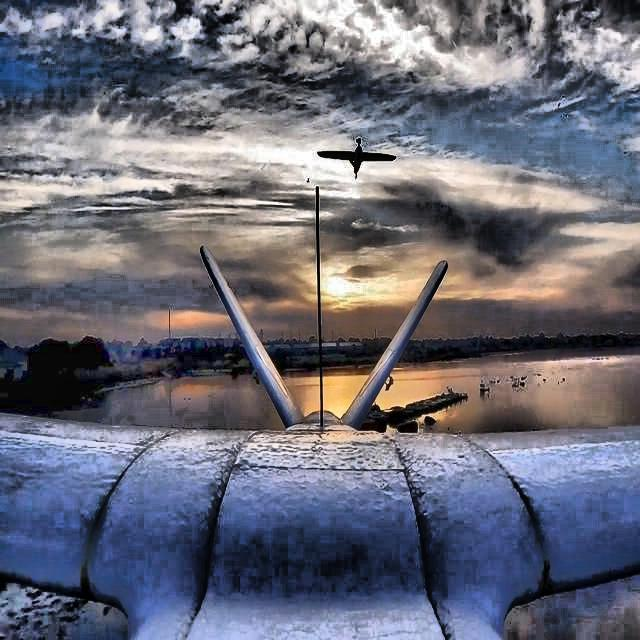iha: (350, 141, 355, 180)
